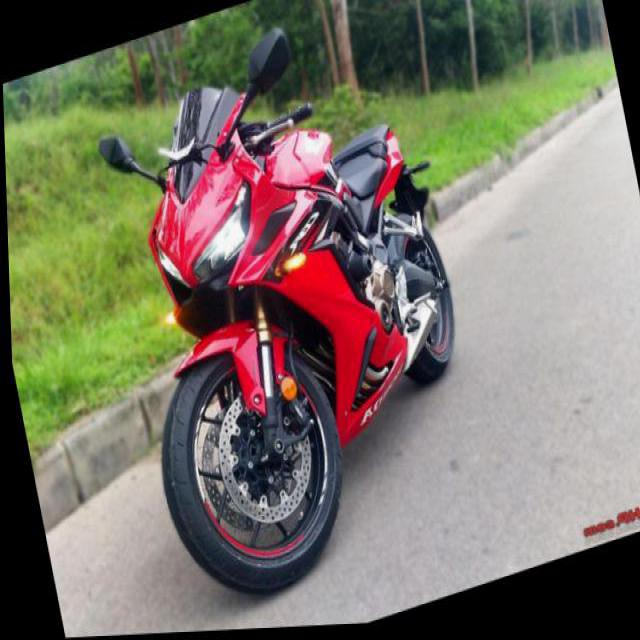CBR650R: (87, 16, 494, 629)
